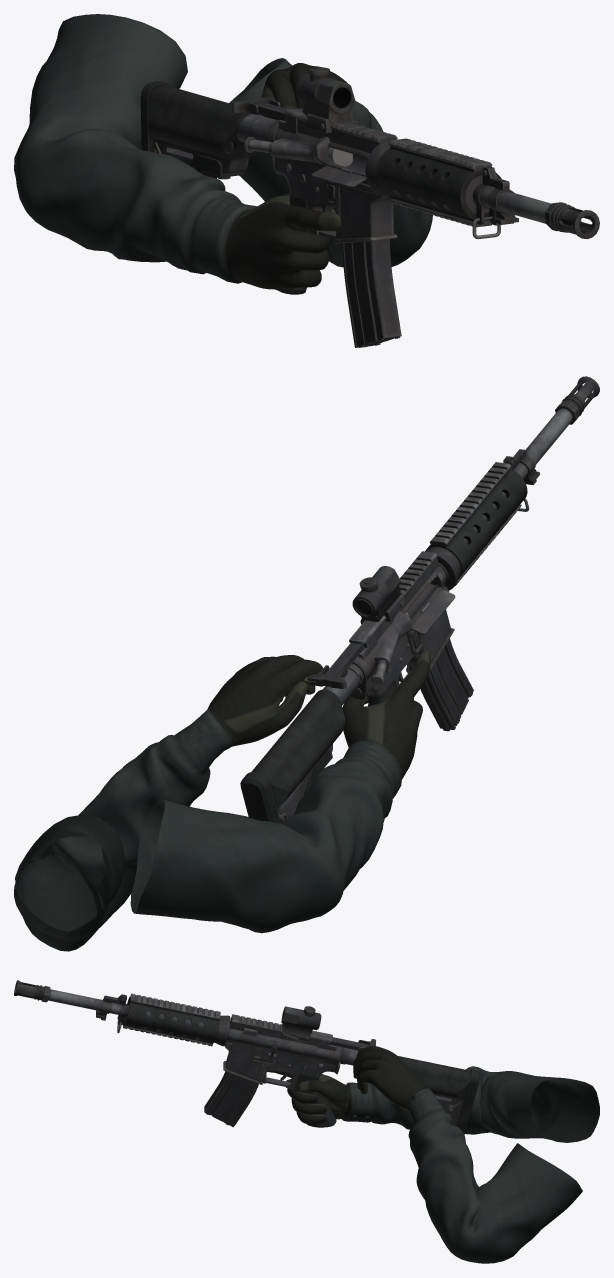
Rendered from carbine_000093.obj.
3 views of the same model, one above another, from view 1: azimuth 30°, elevation 25°; view 2: azimuth 150°, elevation 25°; view 3: azimuth 270°, elevation 25° (orthographic). The views are drawn at different scales.
Visible parts, largest first — view 1: armmesh_arms_0, base_carbine_0, clip_carbine_0, scope_carbine_0, handle_carbine_0, lid_carbine_0; view 2: armmesh_arms_0, base_carbine_0, clip_carbine_0, scope_carbine_0, handle_carbine_0, lid_carbine_0; view 3: armmesh_arms_0, base_carbine_0, clip_carbine_0, scope_carbine_0.
Boxes of the visible parts, <box> form: armmesh_arms_0: <box>14,14,432,289</box>; base_carbine_0: <box>140,81,599,294</box>; clip_carbine_0: <box>342,239,401,347</box>; scope_carbine_0: <box>296,67,359,133</box>; handle_carbine_0: <box>231,97,288,121</box>; lid_carbine_0: <box>312,165,366,187</box>; armmesh_arms_0: <box>14,650,430,951</box>; base_carbine_0: <box>240,376,599,823</box>; clip_carbine_0: <box>420,638,473,731</box>; scope_carbine_0: <box>352,566,405,624</box>; handle_carbine_0: <box>307,643,364,688</box>; lid_carbine_0: <box>410,589,455,634</box>; armmesh_arms_0: <box>267,1046,599,1263</box>; base_carbine_0: <box>14,980,480,1134</box>; clip_carbine_0: <box>204,1071,258,1127</box>; scope_carbine_0: <box>281,1006,321,1041</box>.
Bounding box in the file's own units: 52.65 × 53.68 × 125.
3 materials, 3 textured.
